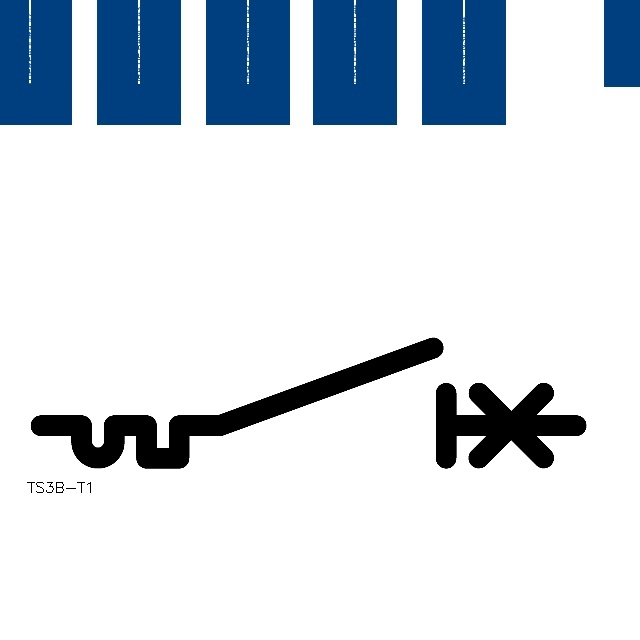interruptor_termomagnetico: (27, 334, 590, 472)
